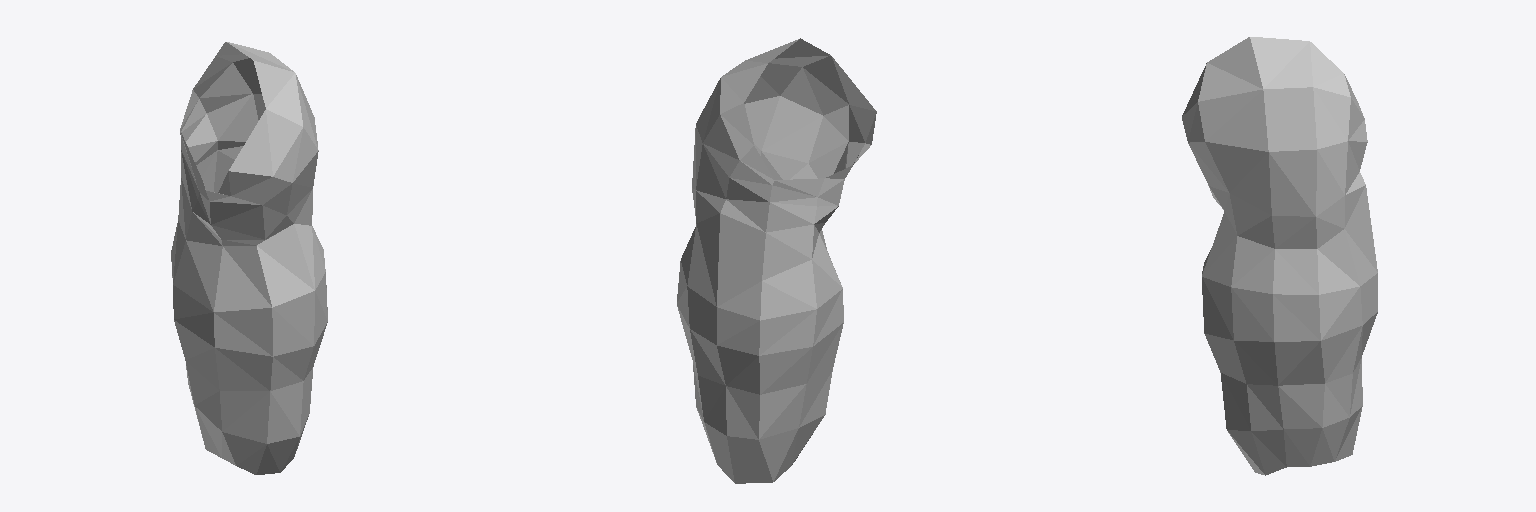
Rendered from Arm_Upper_Left.obj.
3 views of the same model, side by side, from view 1: azimuth 30°, elevation 25°; view 2: azimuth 150°, elevation 25°; view 3: azimuth 270°, elevation 25° (orthographic).
Visible parts, largest first — view 1: Arm_Upper_Cube.039; view 2: Arm_Upper_Cube.039; view 3: Arm_Upper_Cube.039.
Boxes of the visible parts, x1,y1,x2,y2 form: Arm_Upper_Cube.039: [171, 42, 327, 474]; Arm_Upper_Cube.039: [677, 38, 876, 483]; Arm_Upper_Cube.039: [1182, 37, 1377, 475].
Bounding box in the file's own units: 3.18 × 9.02 × 3.82.